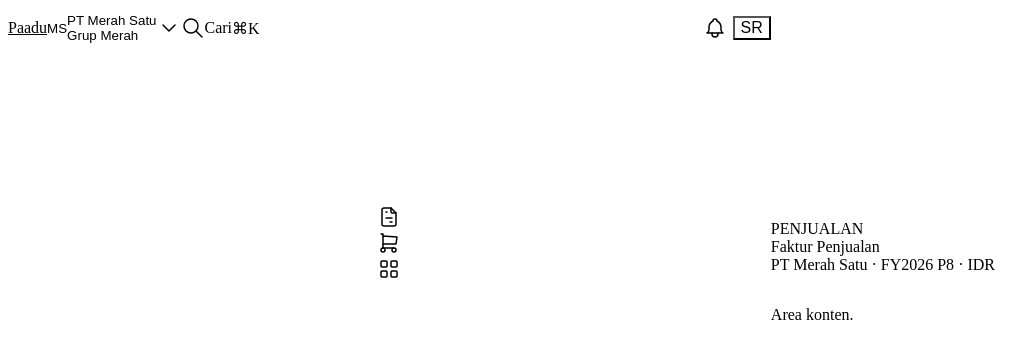
tanpa penangan, item Keluar tidak dirender sama sekali
Click the button with aria-label "Menu pengguna" at [752, 28], box [733,16,771,40]
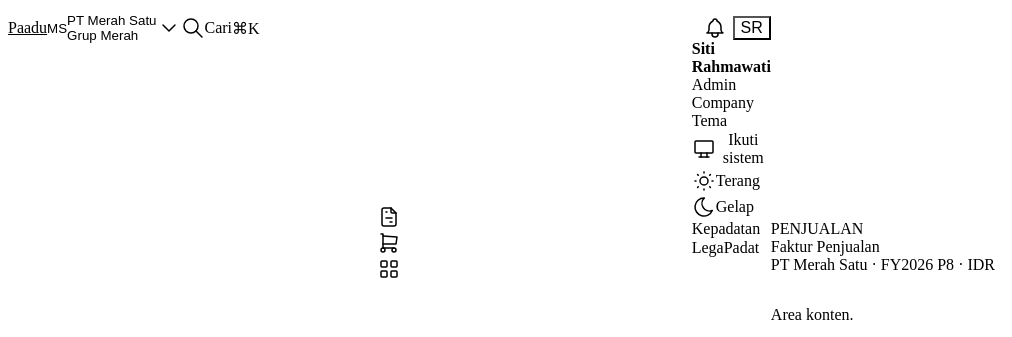
Expected: the element named "Tema" is shown, [692,130,771,220]
